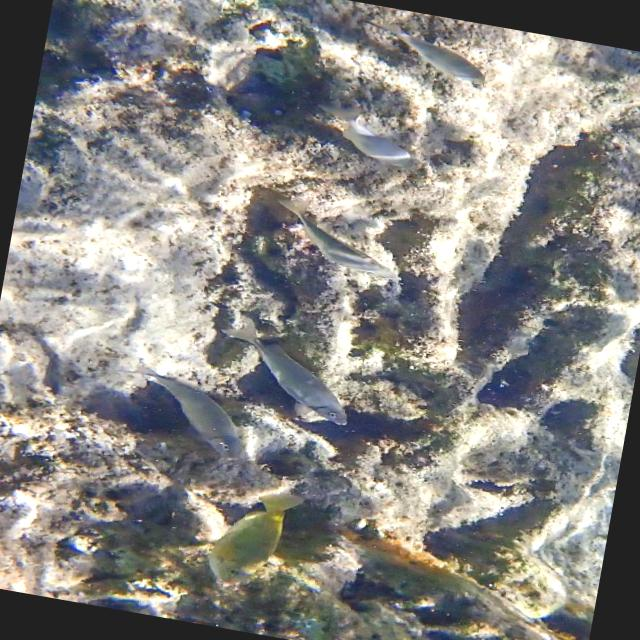Sokar Baligi: (215, 314, 380, 440), (183, 472, 328, 608), (250, 194, 424, 297)
